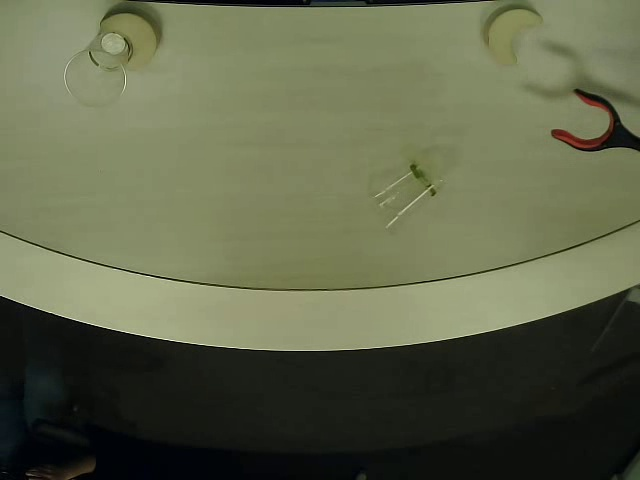Cup: (363, 158, 449, 243), (59, 28, 141, 111)
Deliver: (480, 3, 549, 73), (93, 4, 162, 71)
